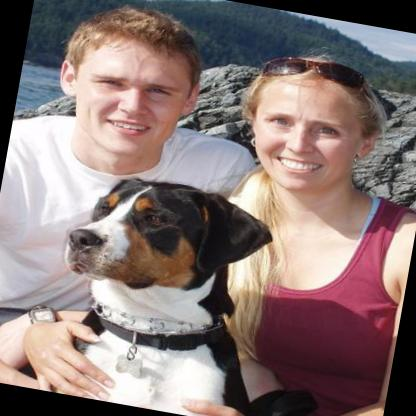Greater_Swiss_Mountain_dog: (37, 164, 287, 416)
